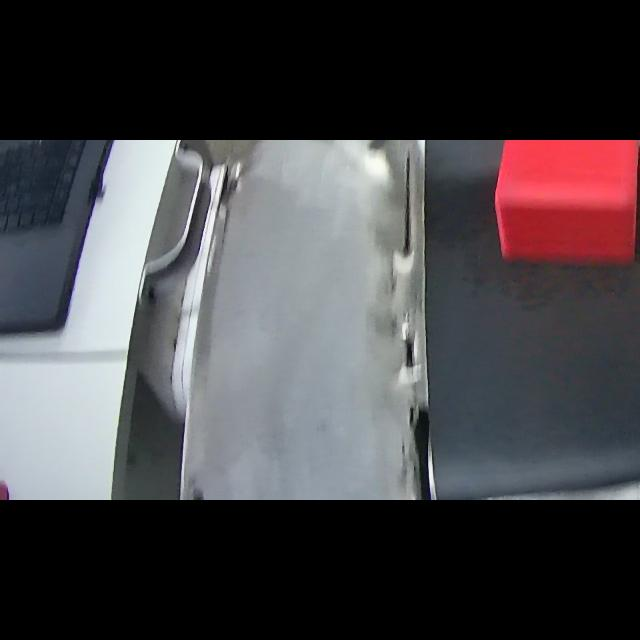redBox: (492, 140, 640, 272)
